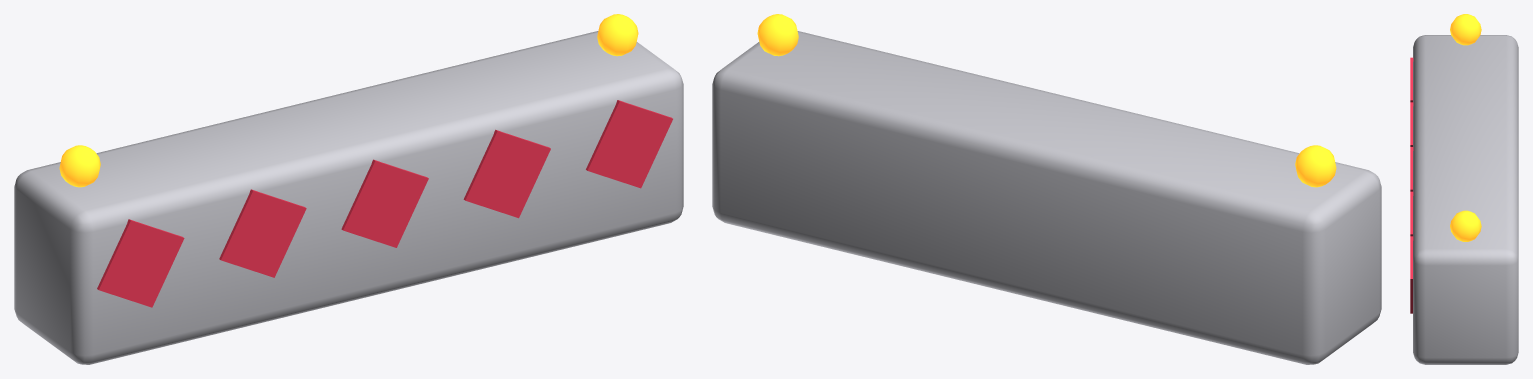
The model's file is pembatas.glb.
The picture shows the model from 3 angles, left to right: view 1: azimuth 30°, elevation 25°; view 2: azimuth 150°, elevation 25°; view 3: azimuth 270°, elevation 25°; orthographic projection. The views are drawn at different scales.
Parts seen in each view (by area): view 1: Cube, Cube.002, Cube.001, Cube.003, Cube.005, Cube.004, Sphere, Sphere.001; view 2: Cube, Sphere, Sphere.001; view 3: Cube, Sphere, Sphere.001, Cube.005, Cube.001, Cube.004, Cube.002, Cube.003.
Boxes of the visible parts, <box> form: Cube: <box>14,31,683,364</box>; Cube.002: <box>219,189,306,277</box>; Cube.001: <box>97,219,184,307</box>; Cube.003: <box>341,159,428,247</box>; Cube.005: <box>586,100,672,188</box>; Cube.004: <box>463,129,550,218</box>; Sphere: <box>59,145,100,187</box>; Sphere.001: <box>597,14,638,56</box>; Cube: <box>712,31,1381,364</box>; Sphere: <box>1295,145,1336,187</box>; Sphere.001: <box>757,14,798,56</box>; Cube: <box>1413,35,1518,364</box>; Sphere: <box>1450,14,1481,45</box>; Sphere.001: <box>1450,210,1481,241</box>; Cube.005: <box>1410,236,1413,313</box>; Cube.001: <box>1410,57,1413,102</box>; Cube.004: <box>1410,191,1413,236</box>; Cube.002: <box>1410,102,1413,146</box>; Cube.003: <box>1410,147,1413,191</box>.
Bounding box in the file's own units: 5 × 1.5 × 1.02.
